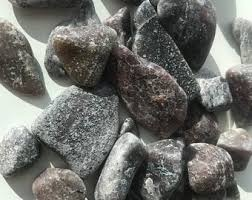obstacle: (0, 0, 64, 98), (0, 84, 40, 138), (211, 25, 239, 72)
